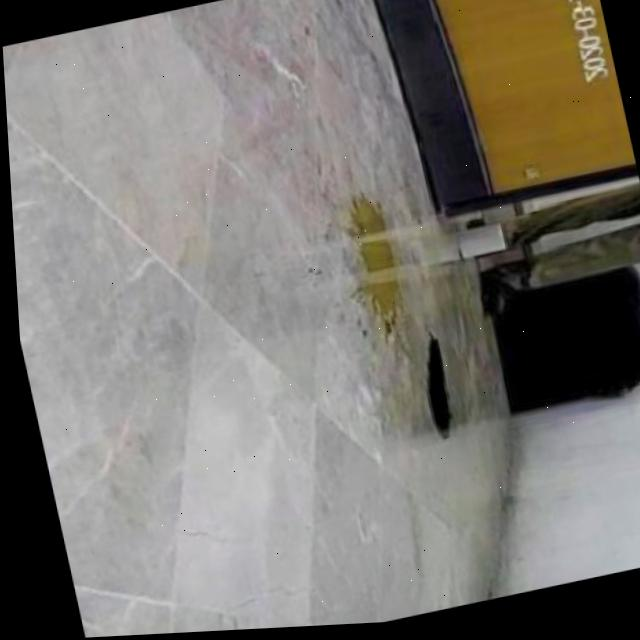spillage: (340, 197, 397, 337), (420, 340, 442, 444)
